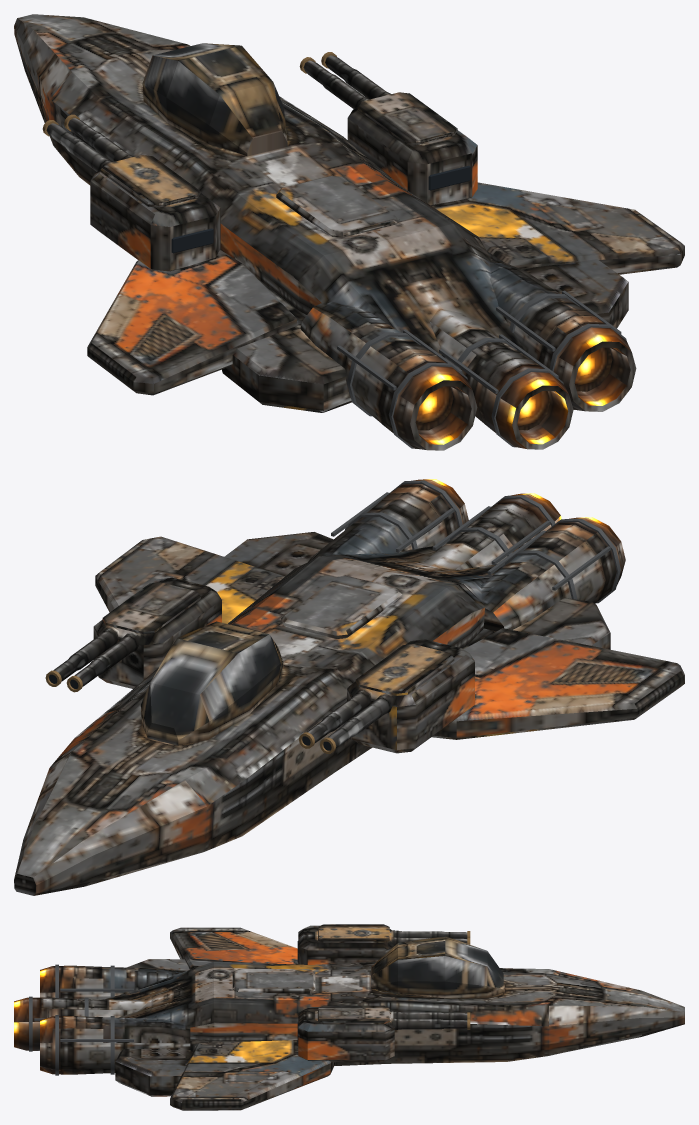
File: privateer-raider.glb
The picture shows the model from 3 angles, top to bottom: view 1: azimuth 30°, elevation 25°; view 2: azimuth 150°, elevation 25°; view 3: azimuth 270°, elevation 25°; orthographic projection. The views are drawn at different scales.
Parts seen in each view (by area): view 1: Reference artwork | salvaged steel, hazard paint and machine, Structural frames | gunmetal, Structural rails | dark alloy, Ventral armor | dedicated bottom-view reference; view 2: Reference artwork | salvaged steel, hazard paint and machine, Structural frames | gunmetal, Ventral armor | dedicated bottom-view reference, Oxidized bronze collars; view 3: Reference artwork | salvaged steel, hazard paint and machine, Structural frames | gunmetal, Ventral armor | dedicated bottom-view reference.
Boxes of the visible parts, bbox=[...] form: Reference artwork | salvaged steel, hazard paint and machine: bbox=[14, 14, 684, 450]; Structural frames | gunmetal: bbox=[337, 290, 626, 448]; Structural rails | dark alloy: bbox=[171, 165, 470, 253]; Ventral armor | dedicated bottom-view reference: bbox=[90, 143, 679, 412]; Reference artwork | salvaged steel, hazard paint and machine: bbox=[14, 479, 684, 895]; Structural frames | gunmetal: bbox=[331, 480, 620, 603]; Ventral armor | dedicated bottom-view reference: bbox=[85, 633, 682, 886]; Oxidized bronze collars: bbox=[45, 670, 336, 753]; Reference artwork | salvaged steel, hazard paint and machine: bbox=[14, 924, 684, 1109]; Structural frames | gunmetal: bbox=[29, 964, 133, 1075]; Ventral armor | dedicated bottom-view reference: bbox=[40, 991, 641, 1110].
Bounding box in the file's own units: 12.25 × 3.57 × 19.88.
Materials: 5 (2 with a texture image).
